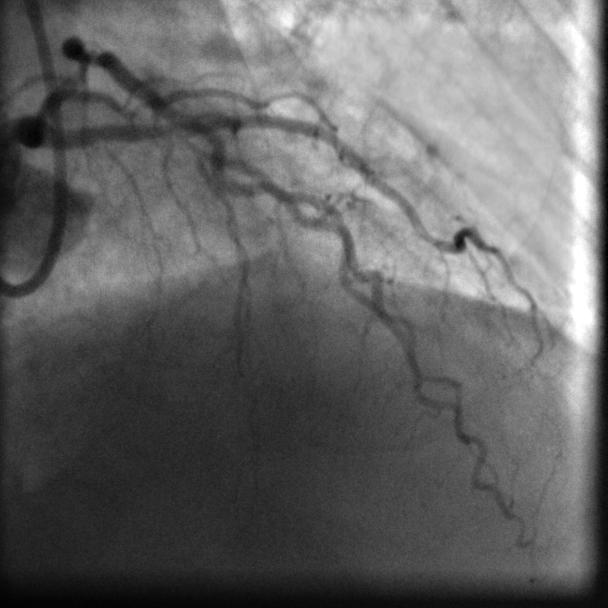Stenosis: (76, 35, 106, 74)
